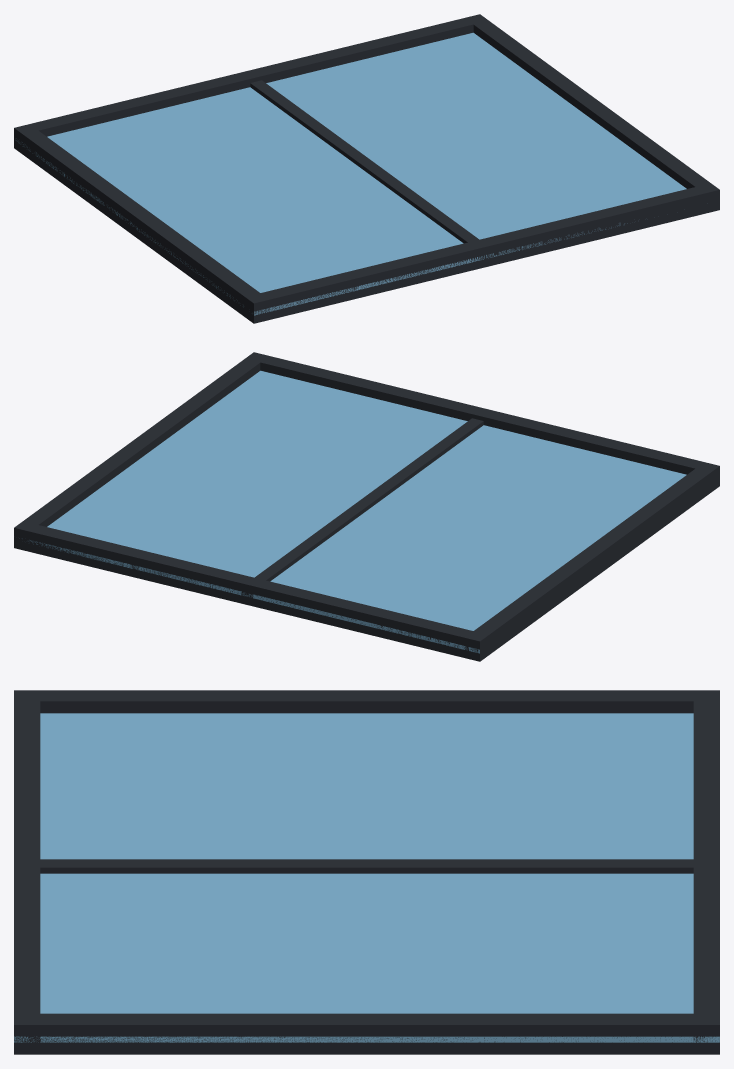
File: 26_Cold_Aisle_Roof_Panel.fbx
3 views of the same model, one above another, from view 1: azimuth 30°, elevation 25°; view 2: azimuth 150°, elevation 25°; view 3: azimuth 270°, elevation 25° (orthographic). The views are drawn at different scales.
Parts seen in each view (by area): view 1: 26_Cold_Aisle_Roof_Panel; view 2: 26_Cold_Aisle_Roof_Panel; view 3: 26_Cold_Aisle_Roof_Panel.
Part boxes in pixels (<box>): 26_Cold_Aisle_Roof_Panel: <box>14,14,719,323</box>; 26_Cold_Aisle_Roof_Panel: <box>14,352,719,661</box>; 26_Cold_Aisle_Roof_Panel: <box>14,690,719,1054</box>.
Bounding box in the file's own units: 1.2 × 0.05 × 1.07.
